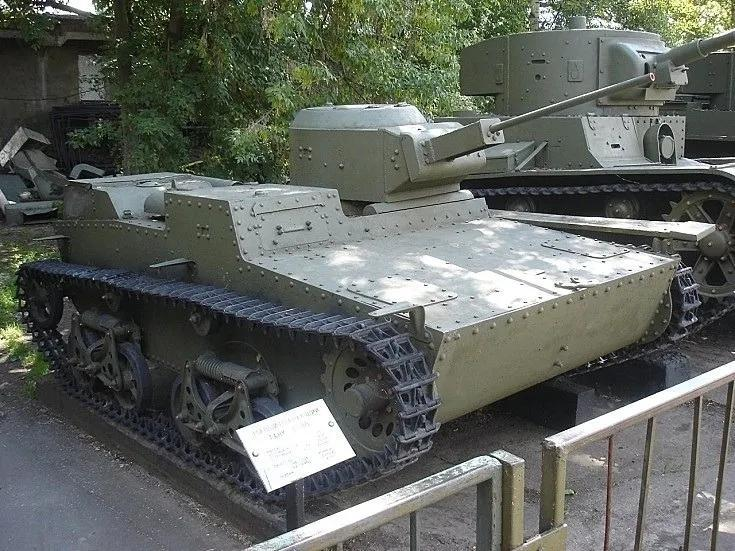MIL_IFV: (16, 96, 703, 498)
